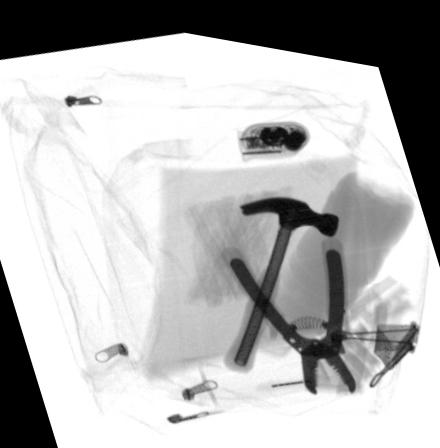Hammer: (223, 187, 340, 365)
Pliers: (219, 222, 356, 383)
